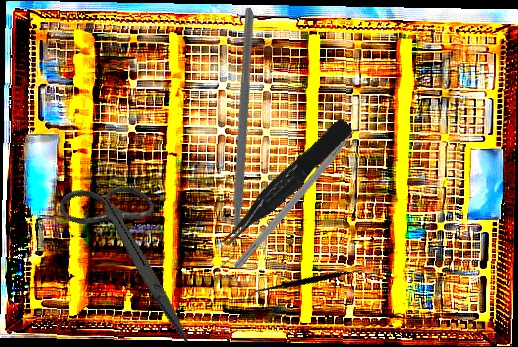Chopper: (115, 6, 353, 272), (233, 119, 374, 277)
Iris Scissors: (28, 160, 238, 345)
Spatula Surgical: (246, 219, 372, 345)
Tissue Forceps: (211, 116, 359, 251)
